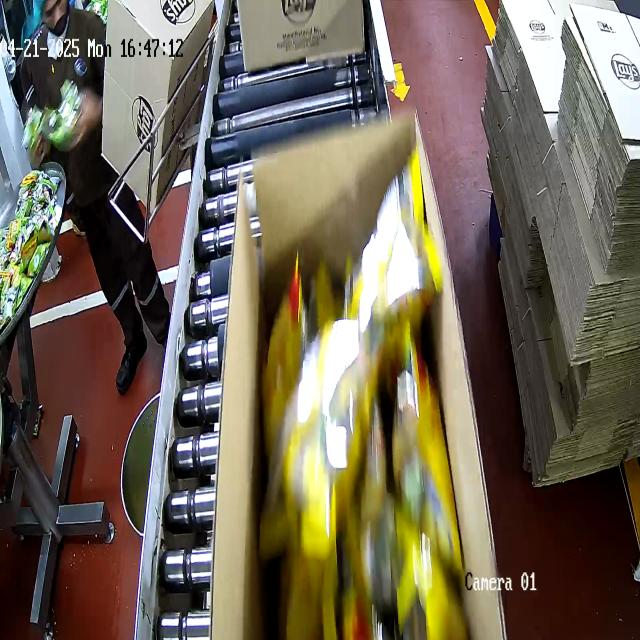SALTED: (257, 204, 469, 640)
